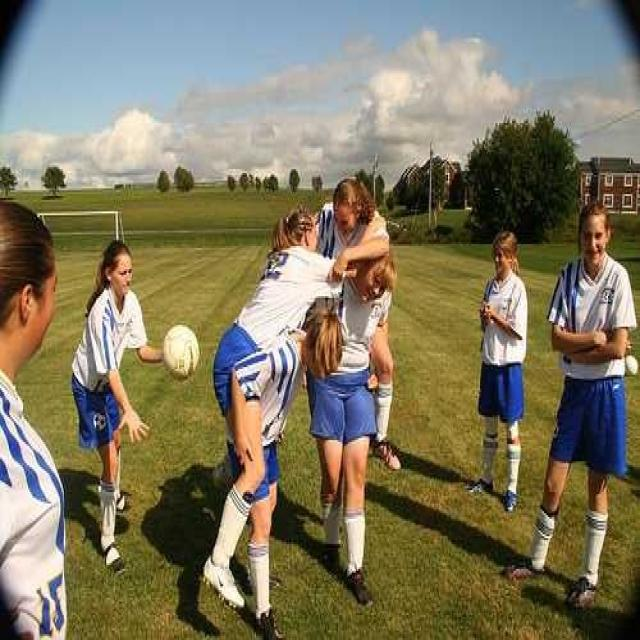ball: (163, 325, 201, 380)
